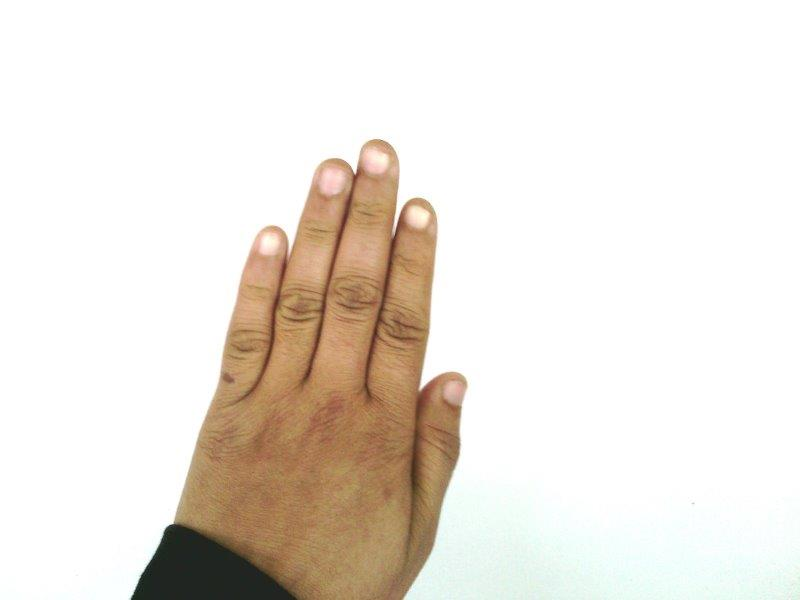hand: (174, 141, 467, 584)
